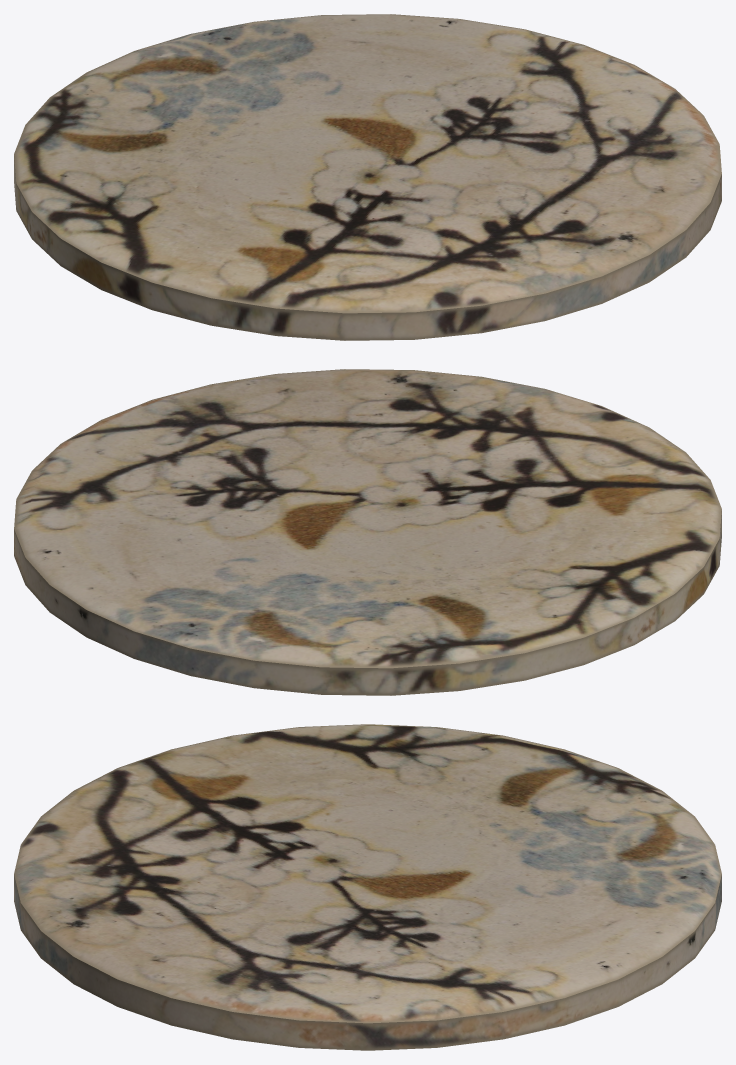
3 views of the same model, one above another, from view 1: azimuth 30°, elevation 25°; view 2: azimuth 150°, elevation 25°; view 3: azimuth 270°, elevation 25° (orthographic).
Parts seen in each view (by area): view 1: Coaster; view 2: Coaster; view 3: Coaster.
Boxes of the visible parts, bbox=[...] form: Coaster: bbox=[14, 14, 721, 340]; Coaster: bbox=[14, 369, 721, 695]; Coaster: bbox=[14, 724, 721, 1050].
Bounding box in the file's own units: 8.57 × 0.5559 × 8.57.
Materials: 1 (1 with a texture image).
